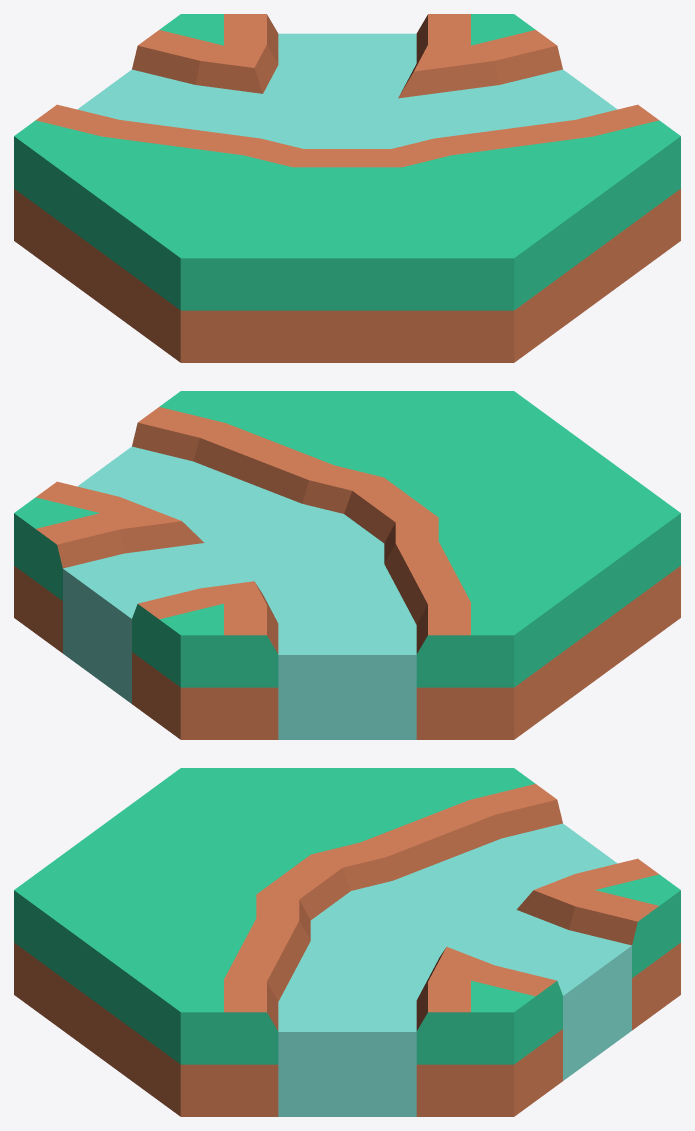
File: river_intersectionA.dae
3 views of the same model, one above another, from view 1: azimuth 30°, elevation 25°; view 2: azimuth 150°, elevation 25°; view 3: azimuth 270°, elevation 25° (orthographic).
Visible parts, largest first — view 1: river_intersectionA; view 2: river_intersectionA; view 3: river_intersectionA.
Part boxes in pixels (x1=…): river_intersectionA: x1=14, y1=14, x2=680, y2=362; river_intersectionA: x1=14, y1=391, x2=680, y2=739; river_intersectionA: x1=14, y1=768, x2=680, y2=1116.
Bounding box in the file's own units: 1 × 0.2 × 1.15.
